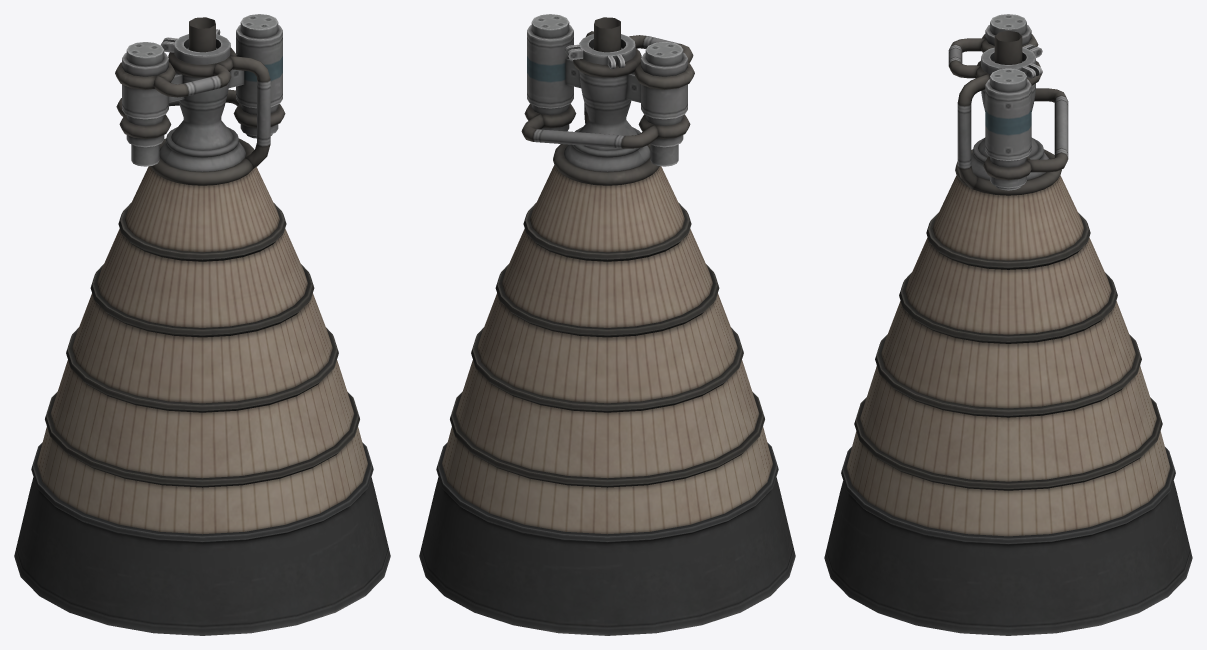
File: le5a_nozzle.obj
The picture shows the model from 3 angles, left to right: view 1: azimuth 30°, elevation 25°; view 2: azimuth 150°, elevation 25°; view 3: azimuth 270°, elevation 25°; orthographic projection. The views are drawn at different scales.
Parts seen in each view (by area): view 1: nozzle; view 2: nozzle; view 3: nozzle.
Boxes of the visible parts, <box> form: nozzle: <box>14,14,390,635</box>; nozzle: <box>419,14,795,635</box>; nozzle: <box>824,14,1192,635</box>.
Bounding box in the file's own units: 1 × 1.56 × 1.
1 material, 1 textured.
